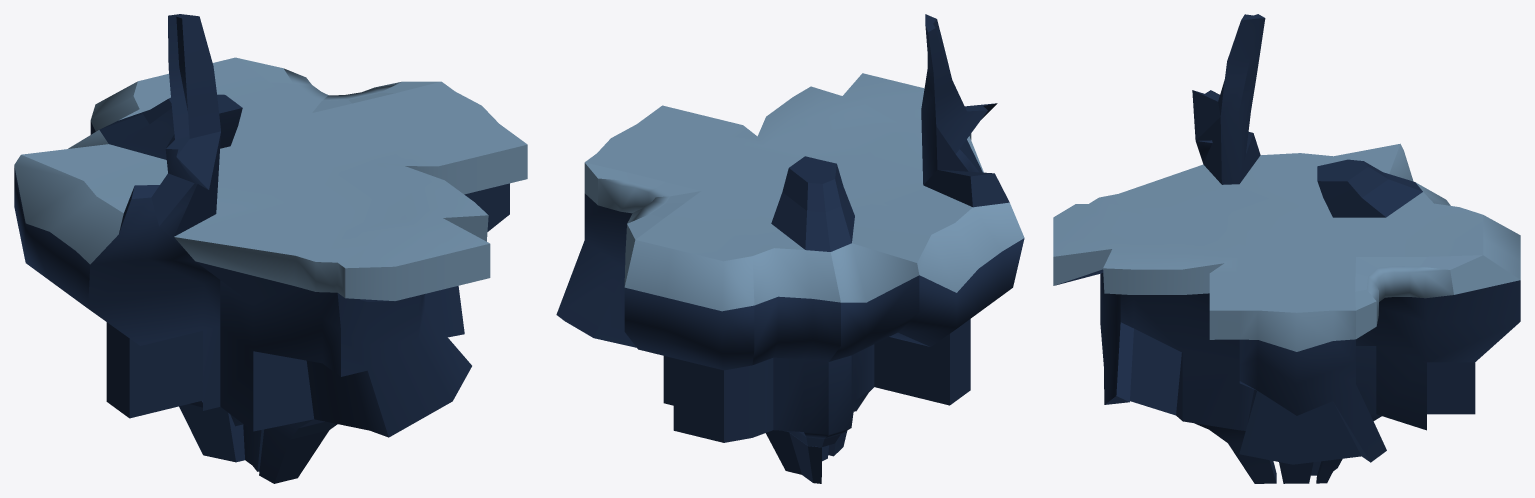
File: Island_square_Night.fbx
3 views of the same model, side by side, from view 1: azimuth 30°, elevation 25°; view 2: azimuth 150°, elevation 25°; view 3: azimuth 270°, elevation 25° (orthographic). The views are drawn at different scales.
Parts seen in each view (by area): view 1: pCube1; view 2: pCube1; view 3: pCube1.
Boxes of the visible parts, box(x1,y1,x2,y2) form: pCube1: box(14, 14, 527, 483); pCube1: box(556, 14, 1024, 483); pCube1: box(1053, 14, 1520, 483).
Size of the model in its own units: 48.38 by 50.9 by 51.38.
